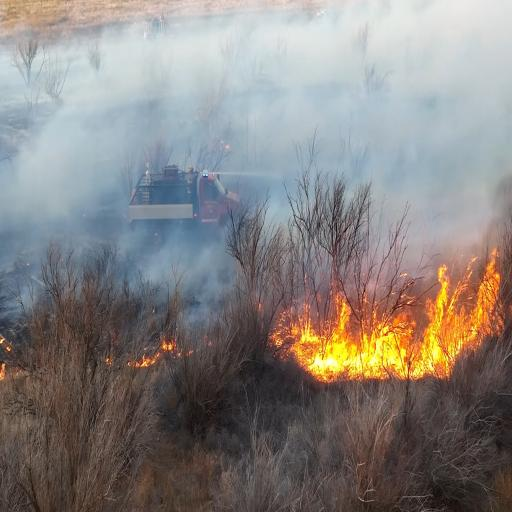fire: (274, 290, 410, 400), (414, 237, 502, 384)
smoke: (363, 18, 490, 179)
